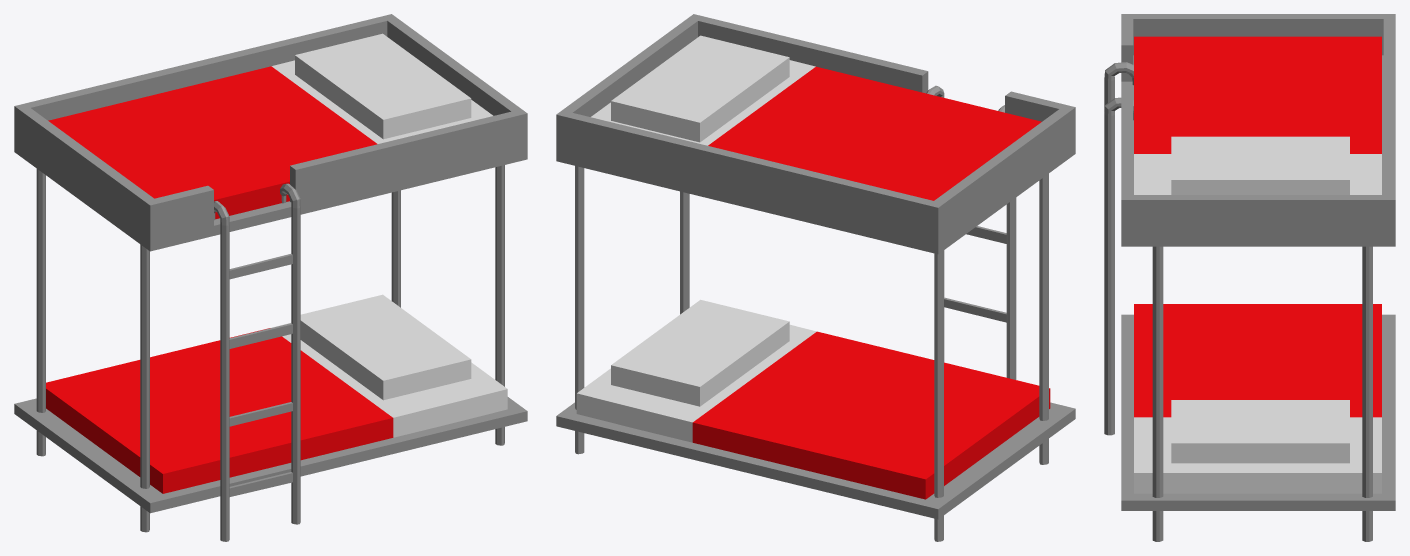
Rendered from bed.fbx.
3 views of the same model, side by side, from view 1: azimuth 30°, elevation 25°; view 2: azimuth 150°, elevation 25°; view 3: azimuth 270°, elevation 25° (orthographic).
Visible parts, largest first — view 1: Cube; view 2: Cube; view 3: Cube.
Part boxes in pixels (x1=…): Cube: x1=14, y1=14, x2=527, y2=541; Cube: x1=556, y1=14, x2=1075, y2=541; Cube: x1=1104, y1=14, x2=1395, y2=541.
Size of the model in its own units: 792 by 705 by 524.
